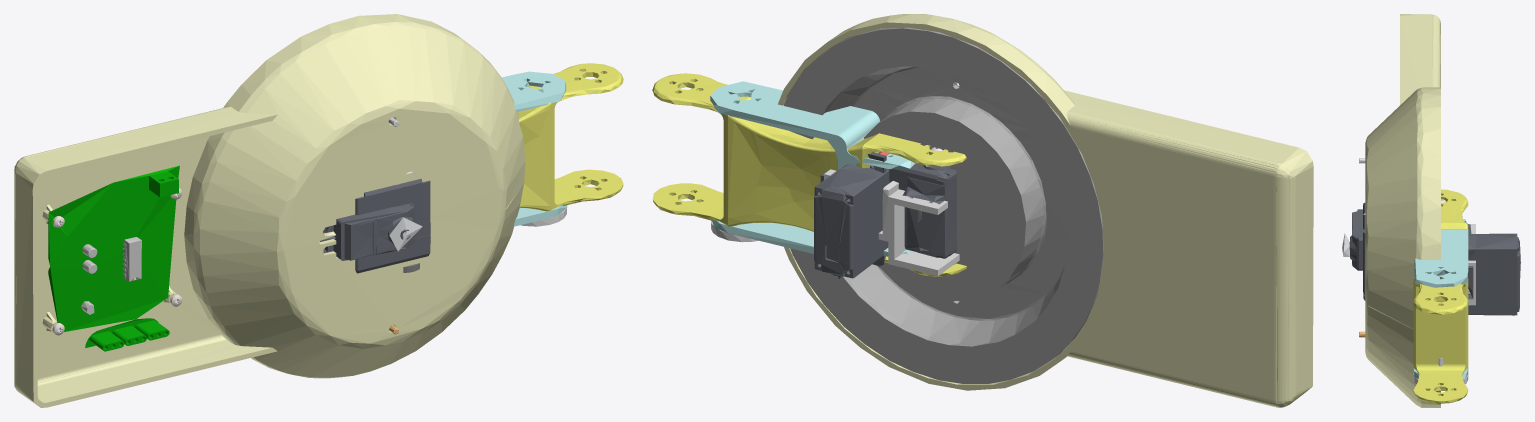
File: arm.glb
3 renders of one model, left to right at view 1: azimuth 30°, elevation 25°; view 2: azimuth 150°, elevation 25°; view 3: azimuth 270°, elevation 25°, orthographic. The views are drawn at different scales.
Visible parts, largest first — view 1: base_link/c10010075, base_link/c005000, upper_arm/c10010050, turntable/c171820, base_link/c171820, forearm/c75100100, base_link/c757575, base_link/c909293; view 2: base_link/c10010075, base_link/c505050, upper_arm/c10010050, forearm/c75100100, gripper/c171820, wrist/c898989, wrist/c171820, forearm/c171820; view 3: base_link/c10010075, upper_arm/c10010050, gripper/c171820, forearm/c75100100, base_link/c171820, turntable/c171820, wrist/c898989, wrist/c171820.
Part boxes in pixels (box(x1,y1,x2,y2)): base_link/c10010075: box(14, 14, 525, 407); base_link/c005000: box(48, 165, 179, 351); upper_arm/c10010050: box(518, 63, 623, 211); turntable/c171820: box(355, 179, 430, 273); base_link/c171820: box(320, 202, 414, 260); forearm/c75100100: box(502, 71, 567, 226); base_link/c757575: box(81, 237, 141, 314); base_link/c909293: box(389, 217, 422, 251); base_link/c10010075: box(778, 14, 1313, 407); base_link/c505050: box(784, 27, 1104, 383); upper_arm/c10010050: box(652, 73, 966, 276); forearm/c75100100: box(710, 81, 915, 256); gripper/c171820: box(814, 152, 889, 278); wrist/c898989: box(824, 169, 959, 276); wrist/c171820: box(820, 164, 957, 257); forearm/c171820: box(887, 163, 956, 258); base_link/c10010075: box(1365, 14, 1440, 407); upper_arm/c10010050: box(1413, 189, 1468, 403); gripper/c171820: box(1464, 221, 1520, 315); forearm/c75100100: box(1413, 219, 1468, 380); base_link/c171820: box(1342, 209, 1362, 270); turntable/c171820: box(1363, 202, 1365, 294); wrist/c898989: box(1468, 224, 1475, 305); wrist/c171820: box(1467, 223, 1473, 299).
Size of the model in its own units: 324 by 176 by 98.06.
